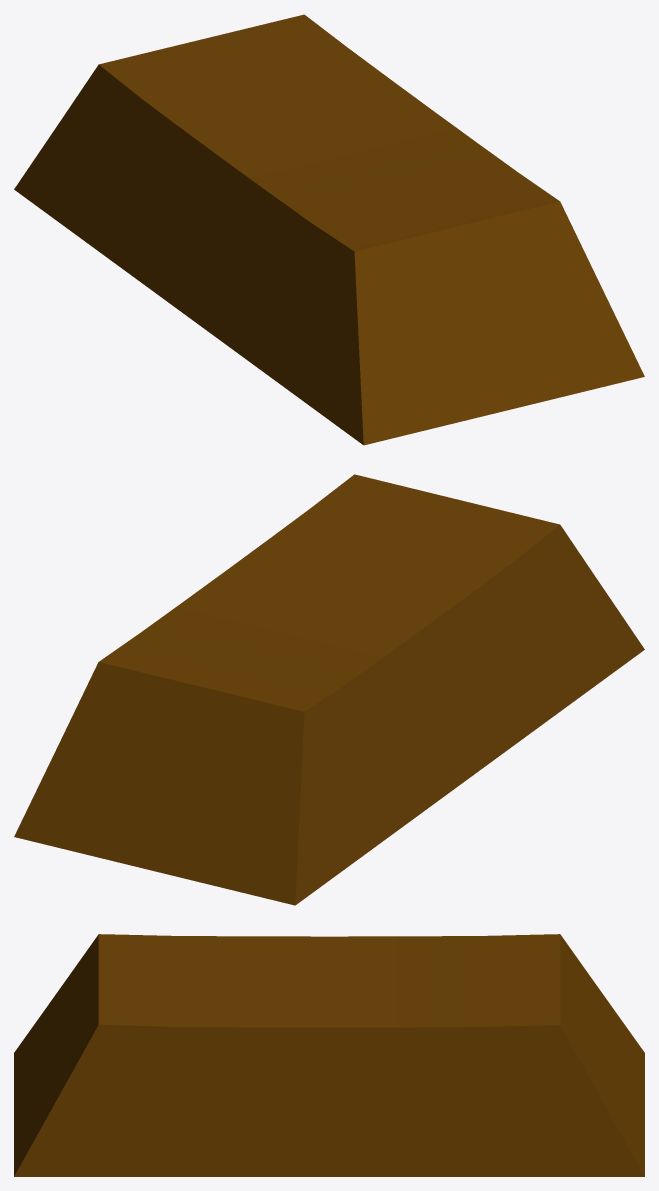
Rendered from bronze.fbx.
The picture shows the model from 3 angles, top to bottom: view 1: azimuth 30°, elevation 25°; view 2: azimuth 150°, elevation 25°; view 3: azimuth 270°, elevation 25°; orthographic projection. The views are drawn at different scales.
Visible parts, largest first — view 1: pCube1; view 2: pCube1; view 3: pCube1.
Part boxes in pixels (x1=…): pCube1: x1=14, y1=14, x2=644, y2=445; pCube1: x1=14, y1=474, x2=644, y2=905; pCube1: x1=14, y1=934, x2=644, y2=1176.
Size of the model in its own units: 0.4644 by 0.237 by 1.
